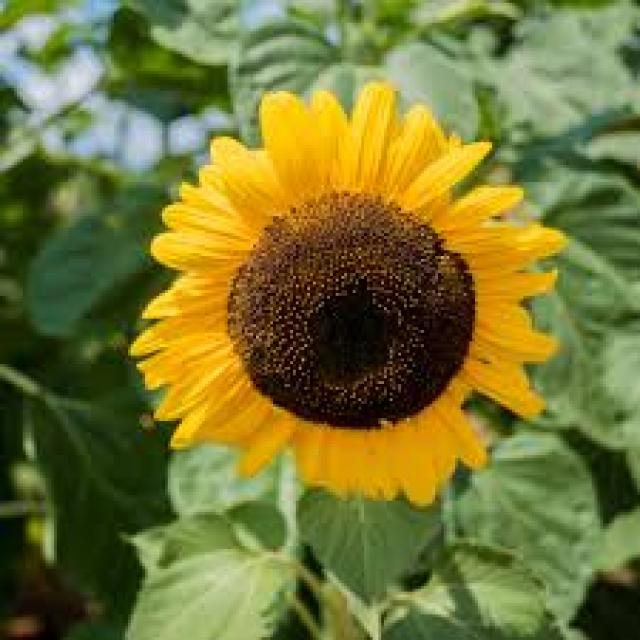sunflower: (123, 70, 572, 517)
